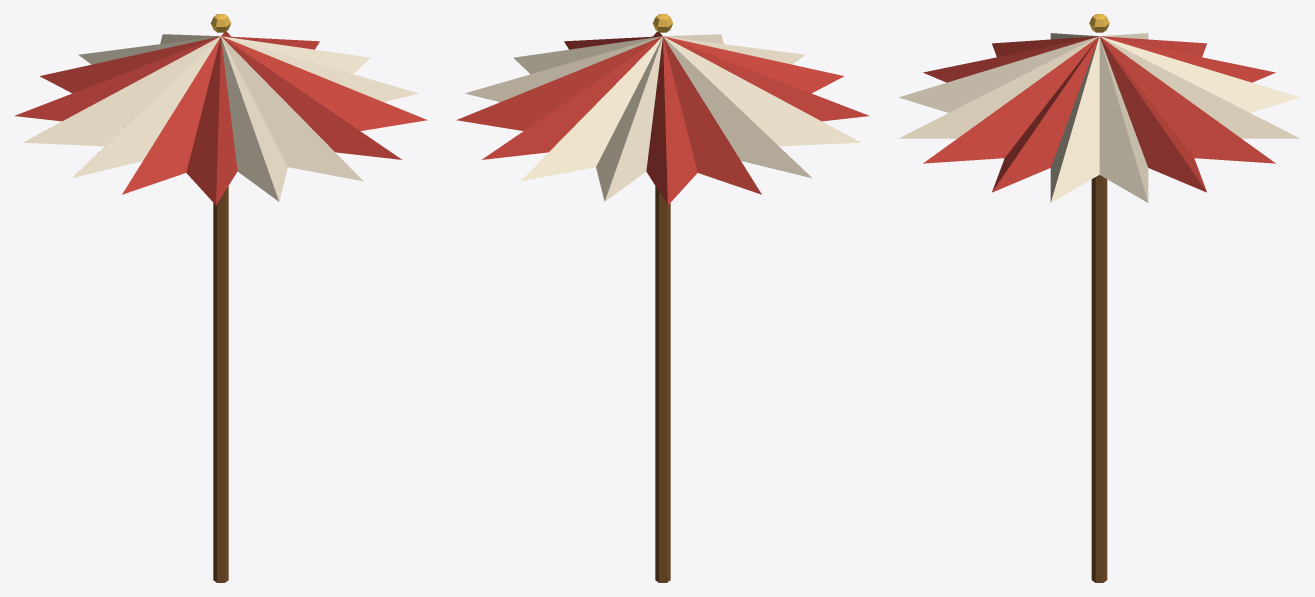
File: PR_Decor_Semsiye.fbx
The picture shows the model from 3 angles, left to right: view 1: azimuth 30°, elevation 25°; view 2: azimuth 150°, elevation 25°; view 3: azimuth 270°, elevation 25°; orthographic projection.
Parts seen in each view (by area): view 1: PR_Decor_Semsiye; view 2: PR_Decor_Semsiye; view 3: PR_Decor_Semsiye.
Part boxes in pixels (box(x1,y1,x2,y2)): PR_Decor_Semsiye: box(15, 14, 427, 582); PR_Decor_Semsiye: box(456, 14, 868, 582); PR_Decor_Semsiye: box(898, 14, 1300, 582).
Bounding box in the file's own units: 1.56 × 2.42 × 1.56.
Materials: 1 (1 with a texture image).
